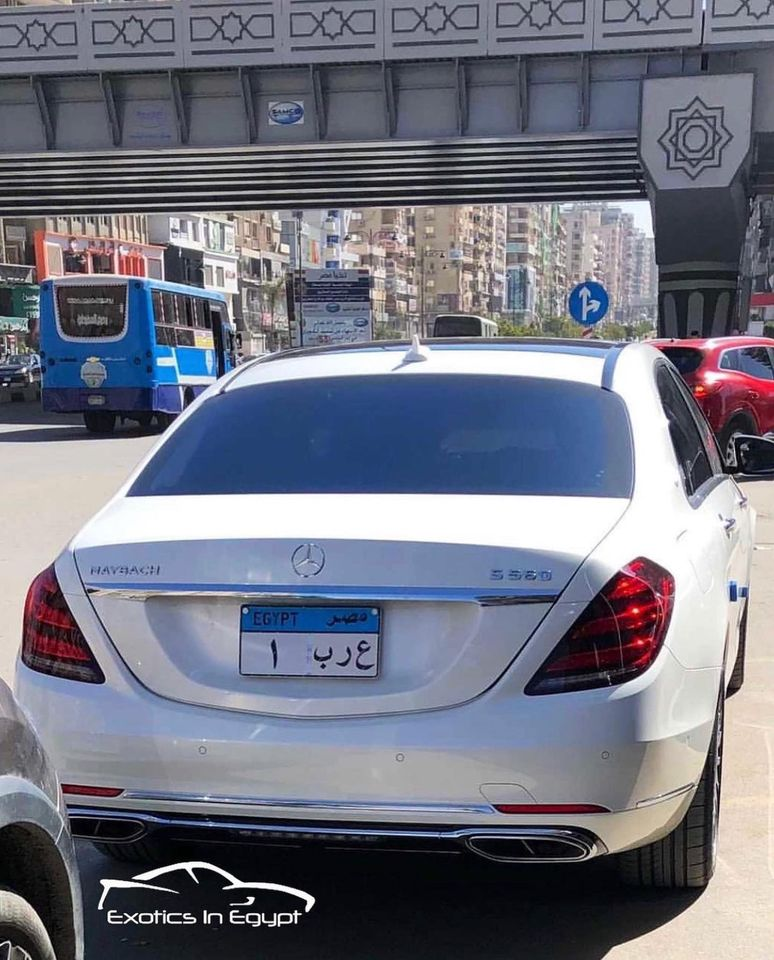carpl: (232, 614, 393, 678)
